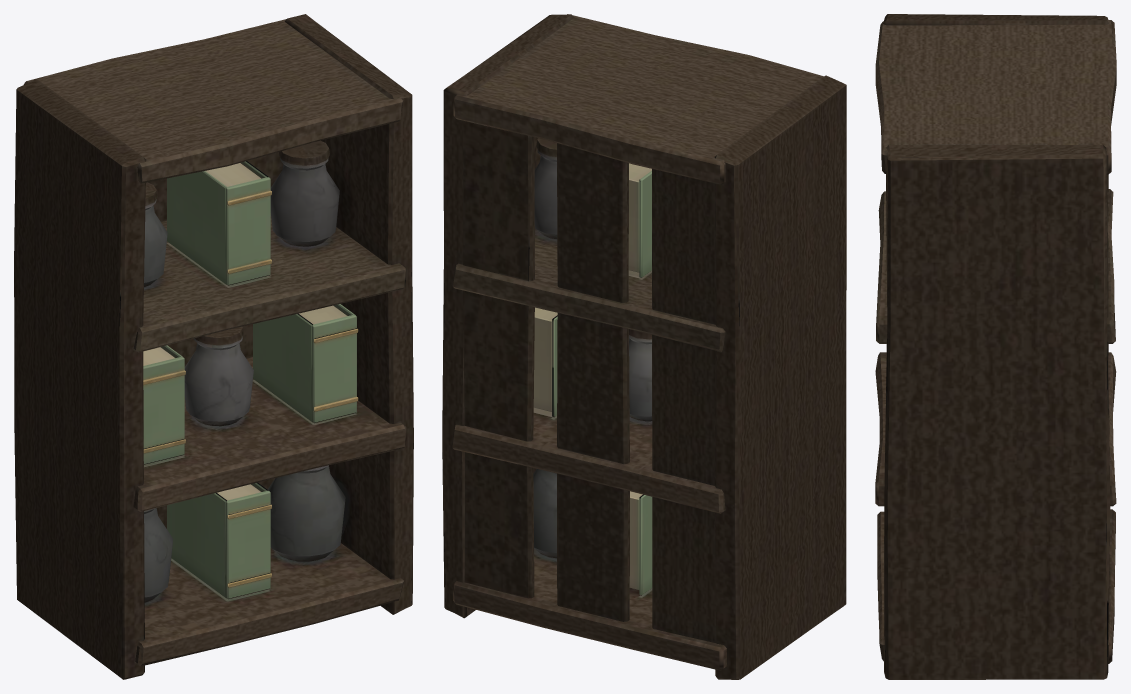
The model's file is display_shelf.glb.
The picture shows the model from 3 angles, left to right: view 1: azimuth 30°, elevation 25°; view 2: azimuth 150°, elevation 25°; view 3: azimuth 270°, elevation 25°; orthographic projection. The views are drawn at different scales.
Visible parts, largest first — view 1: display_shelf; view 2: display_shelf; view 3: display_shelf.
Boxes of the visible parts, x1,y1,x2,y2 form: display_shelf: [14, 14, 413, 679]; display_shelf: [442, 14, 846, 679]; display_shelf: [875, 14, 1116, 679].
Bounding box in the file's own units: 0.8519 × 1.44 × 0.595.
1 material, 1 textured.
